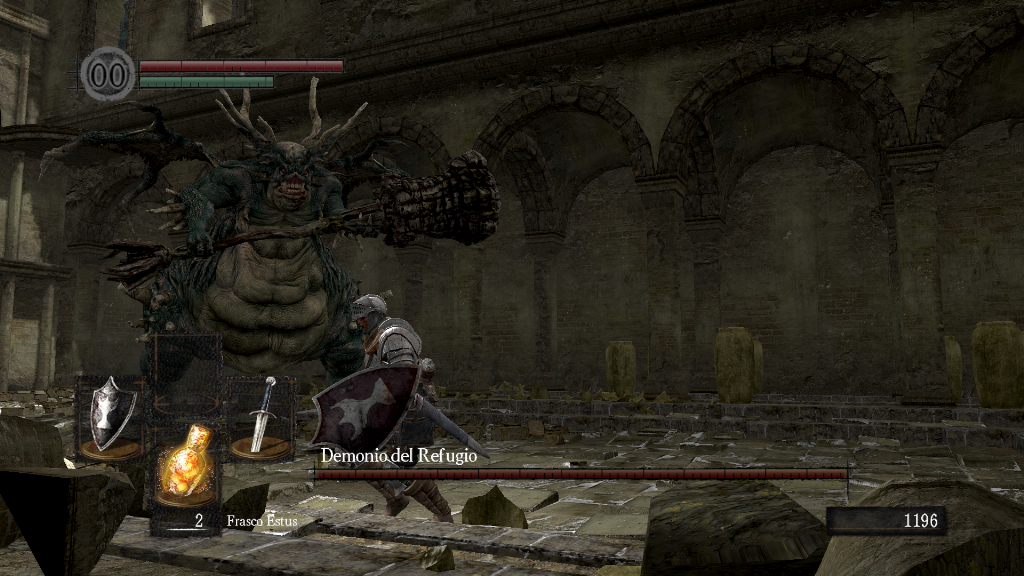asylumDemon: (34, 76, 503, 394)
bossHP: (314, 469, 847, 479)
health: (138, 58, 343, 71)
humanity: (80, 45, 136, 102)
player: (306, 292, 455, 524)
souls: (825, 506, 945, 536)
stamina: (138, 74, 274, 88)
